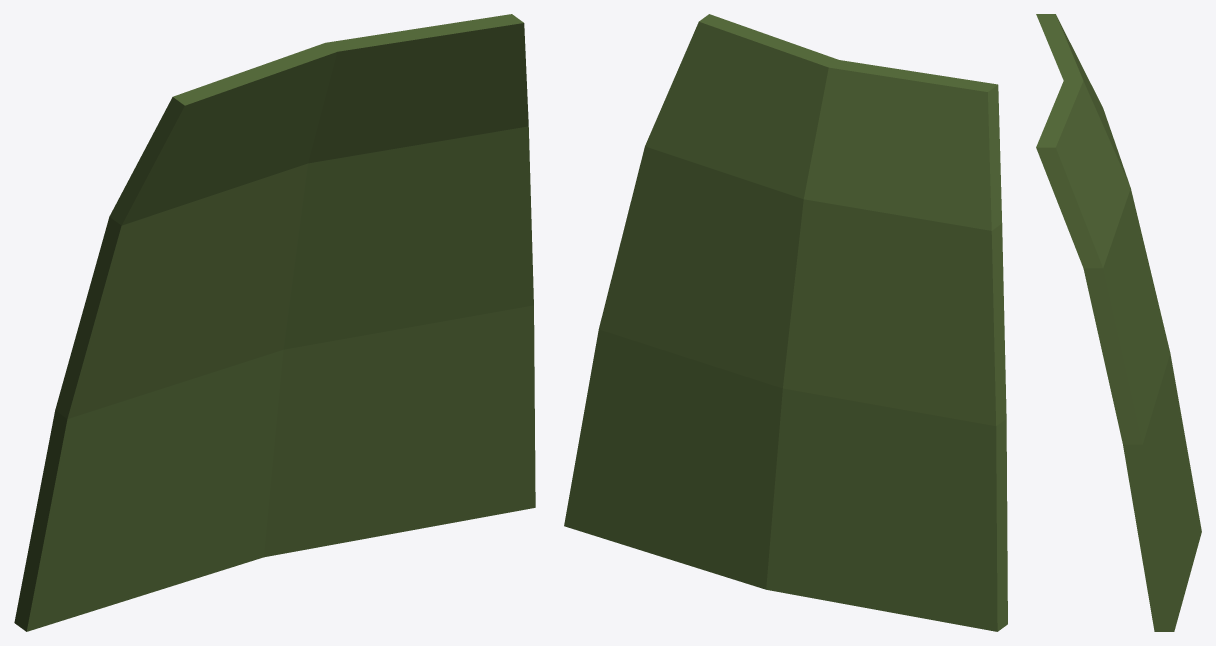
Rendered from SM_NPC_Back_01_Cape.glb.
3 views of the same model, side by side, from view 1: azimuth 30°, elevation 25°; view 2: azimuth 150°, elevation 25°; view 3: azimuth 270°, elevation 25° (orthographic). The views are drawn at different scales.
Visible parts, largest first — view 1: SM_NPC_Back_01_Cape; view 2: SM_NPC_Back_01_Cape; view 3: SM_NPC_Back_01_Cape.
Part boxes in pixels (x1,y1,x2,y2): SM_NPC_Back_01_Cape: (14, 14, 535, 631); SM_NPC_Back_01_Cape: (564, 14, 1007, 631); SM_NPC_Back_01_Cape: (1036, 14, 1201, 631).
Bounding box in the file's own units: 0.6 × 0.63 × 0.21.
